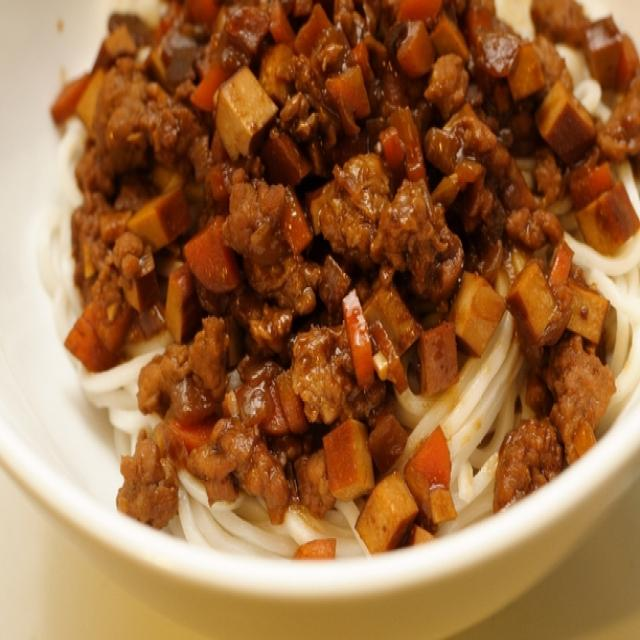面条主食: (7, 8, 632, 604)
